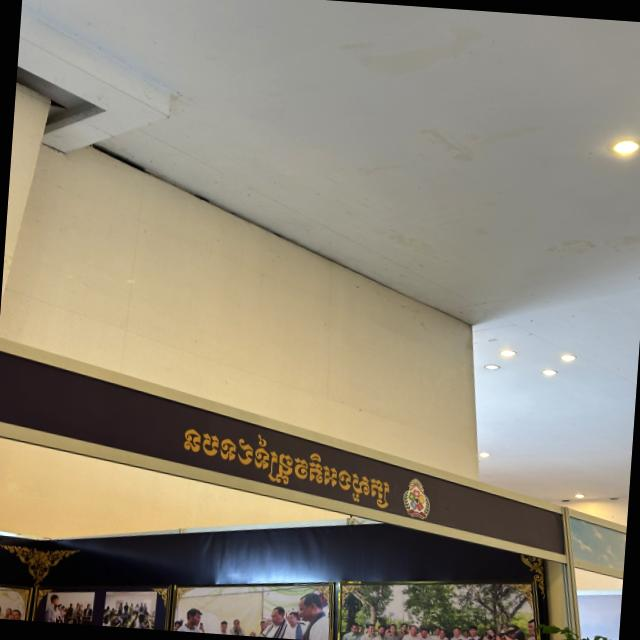Yolov11kh: (178, 418, 399, 509)
